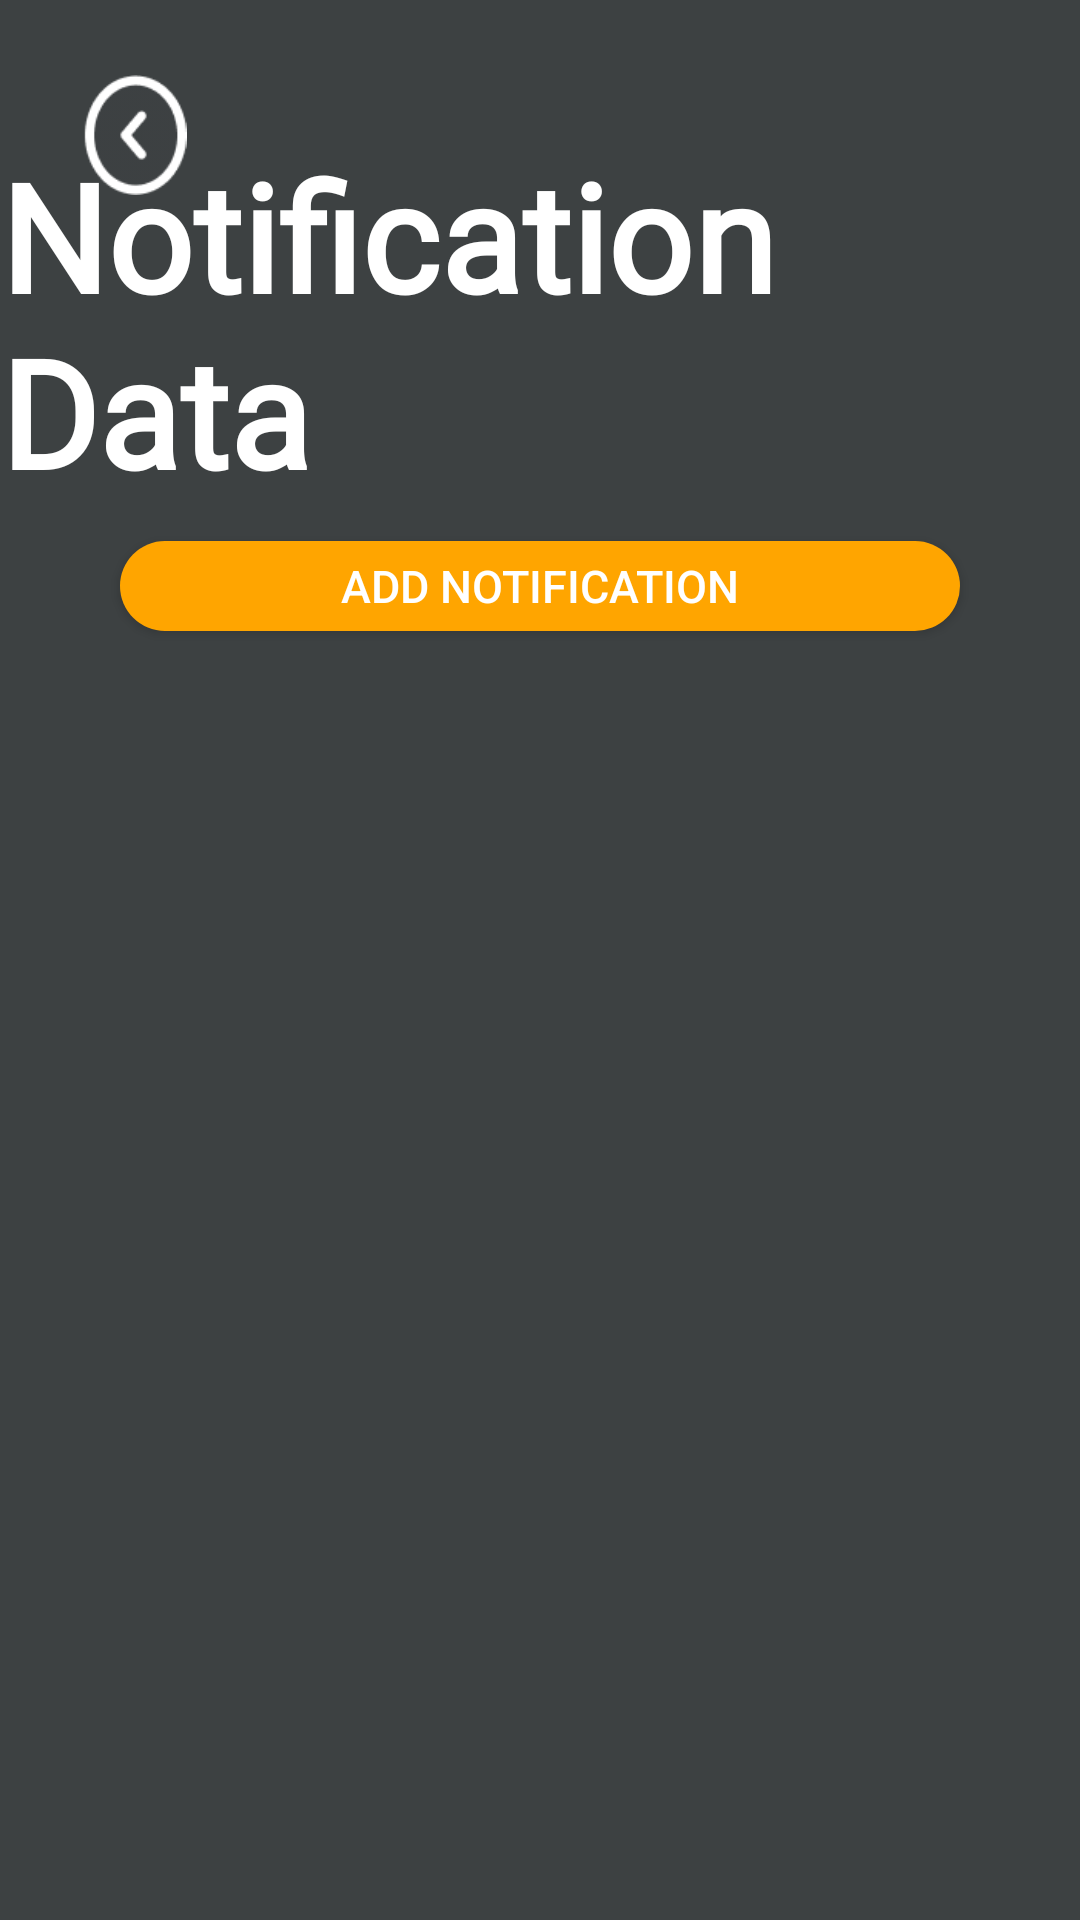

Screen size 1080px×1920px. Icon name, then its center in pixels as [x,y]:
back: [135,135]
